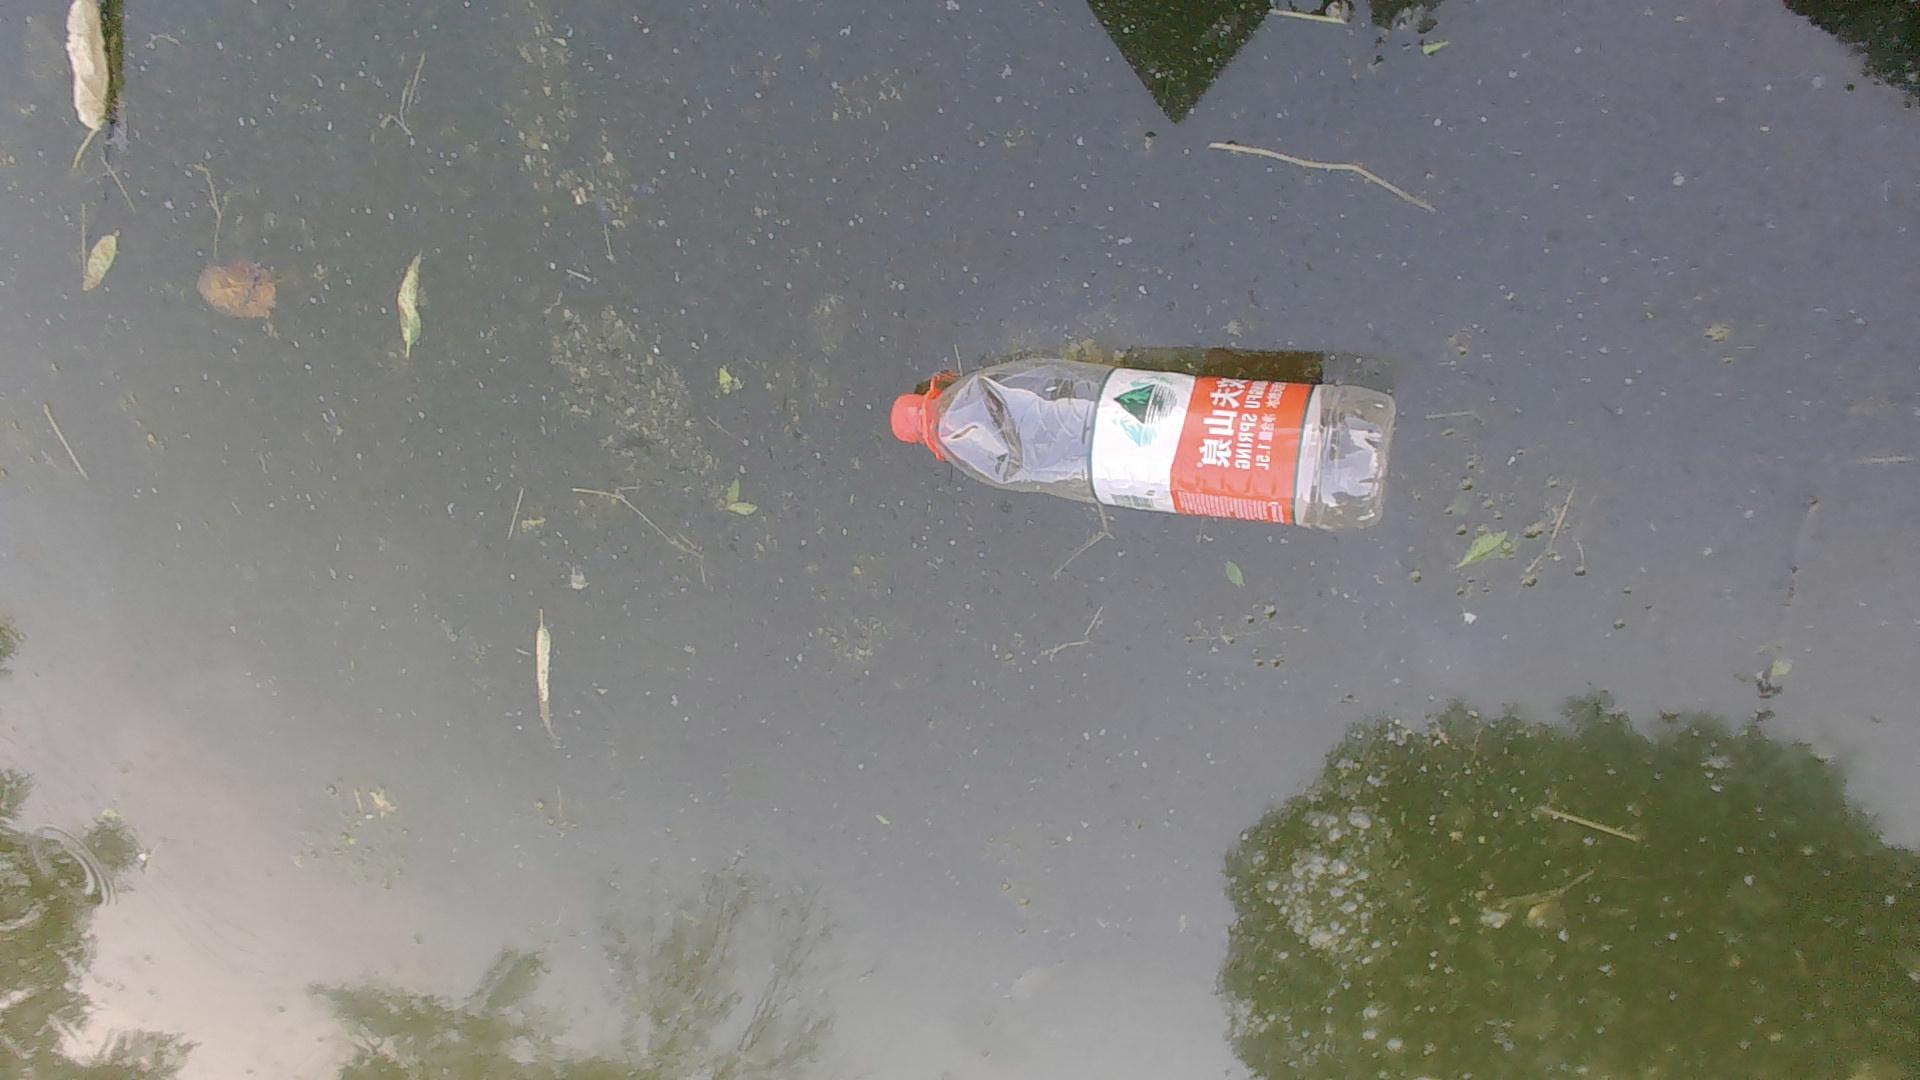Plastic: (881, 353, 1404, 541)
